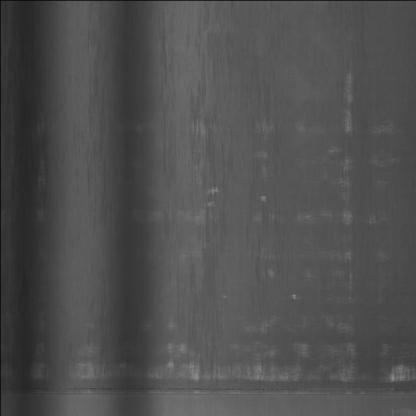welding_line: (6, 377, 416, 404)
